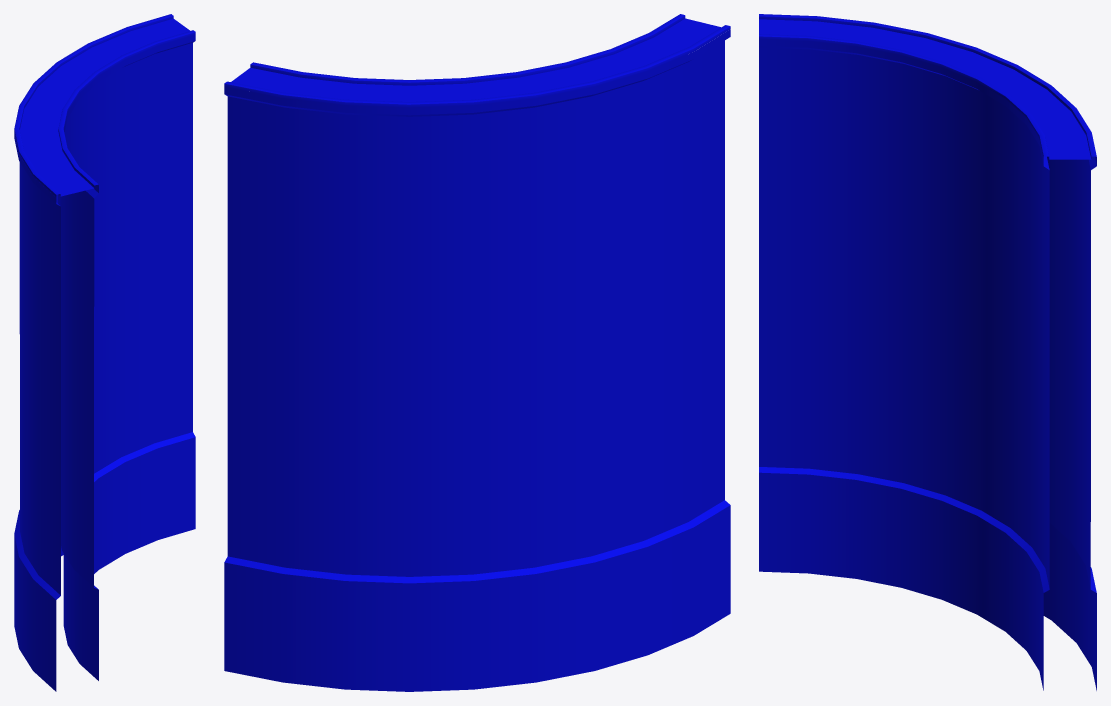
The model's file is Corner_90.FBX.
3 views of the same model, side by side, from view 1: azimuth 30°, elevation 25°; view 2: azimuth 150°, elevation 25°; view 3: azimuth 270°, elevation 25° (orthographic). The views are drawn at different scales.
Parts seen in each view (by area): view 1: Wall_Corner; view 2: Wall_Corner; view 3: Wall_Corner.
Part boxes in pixels (box(x1,y1,x2,y2)): Wall_Corner: box(14, 14, 195, 691); Wall_Corner: box(224, 14, 730, 691); Wall_Corner: box(759, 14, 1096, 690).
Bounding box in the file's own units: 73.62 × 129 × 73.59.
